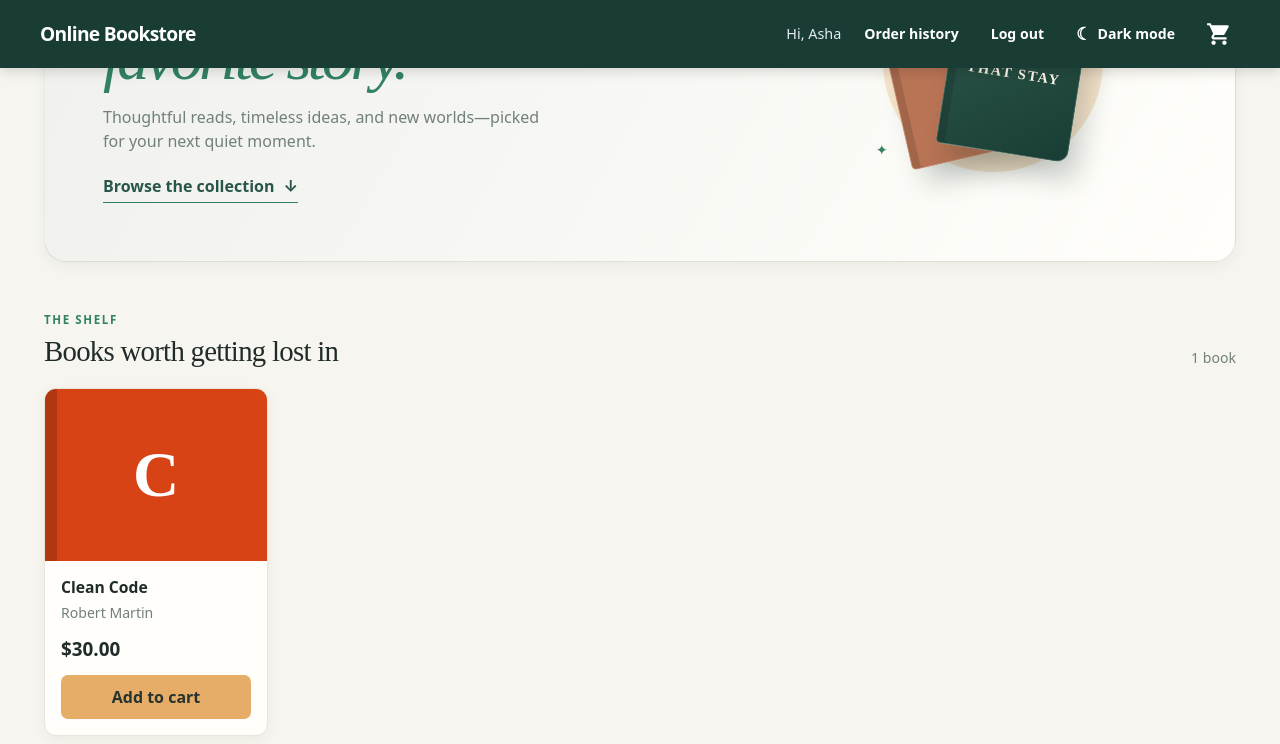
it: App (logged in) › shows the backend message when adding fails
The width and height of the screenshot is (1280, 744).
(page scrolled)
Click the button with aria-label "Add Clean Code to cart" at (156, 698), box [61,676,251,720]
(page scrolled)
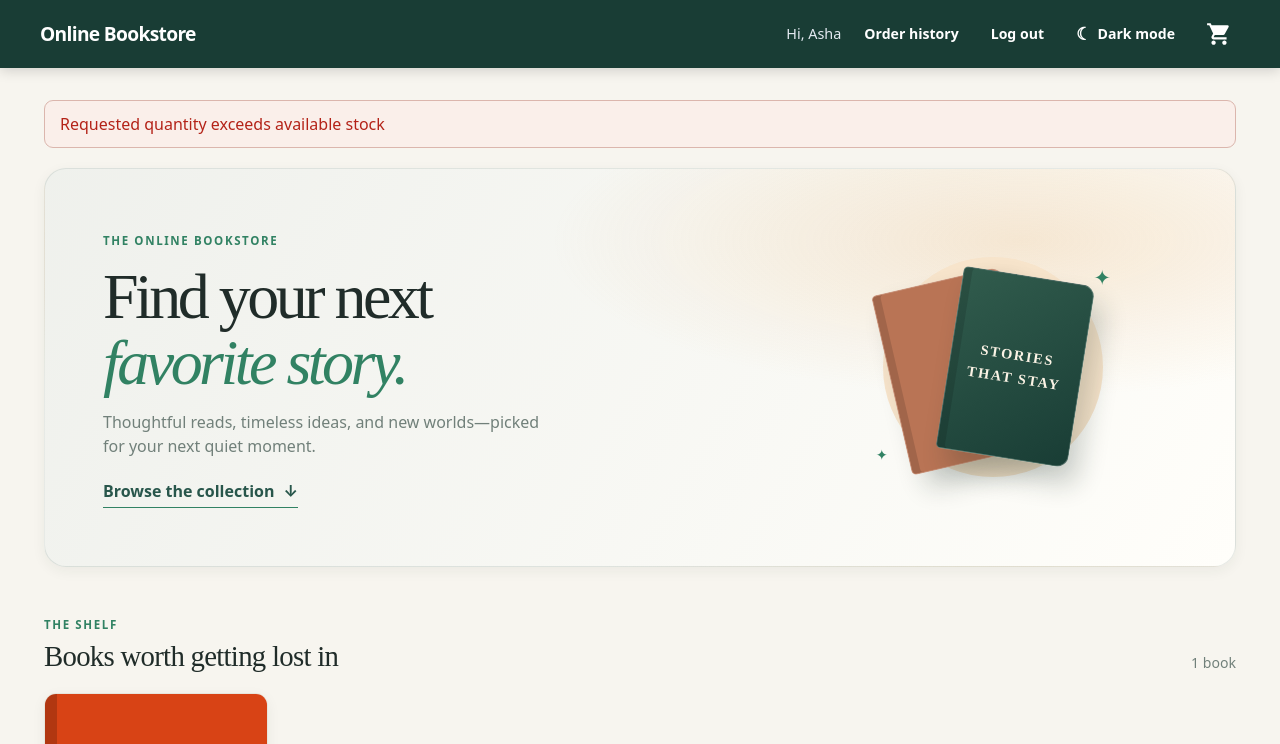
Expected: the message shows "exceeds available stock", [60,113,385,135]
